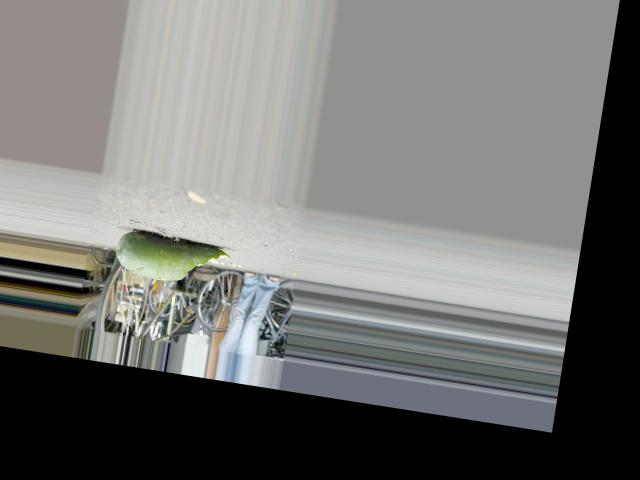cucumber: (113, 228, 233, 290)
